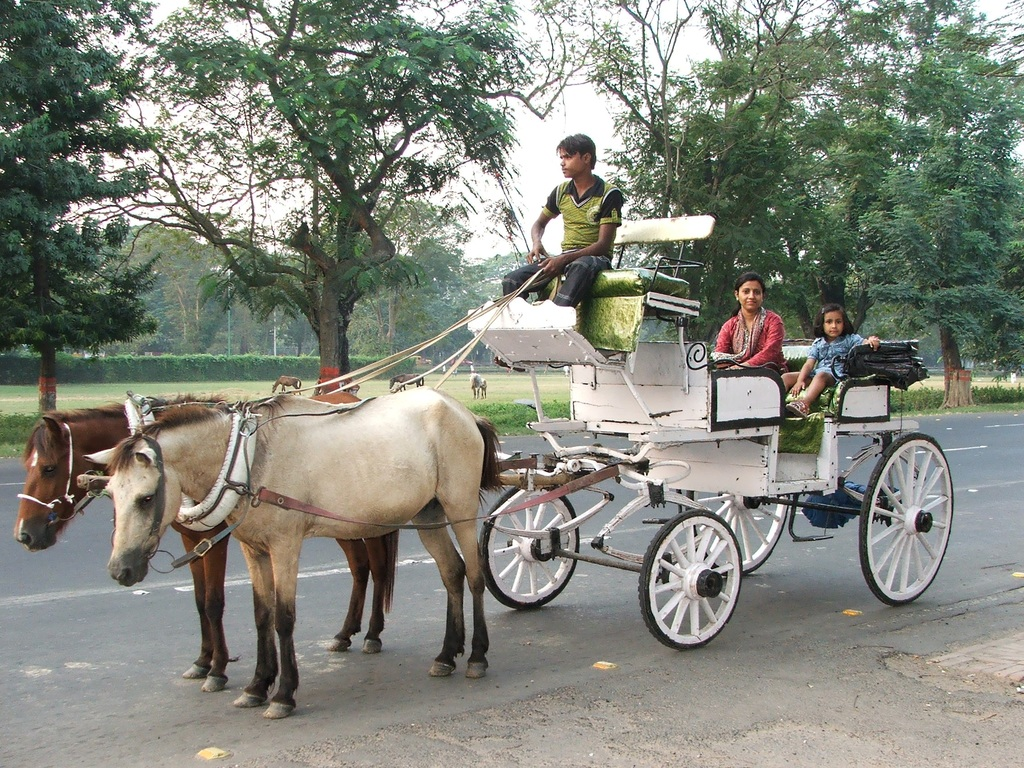Person: (782, 303, 880, 420), (710, 271, 788, 373)
